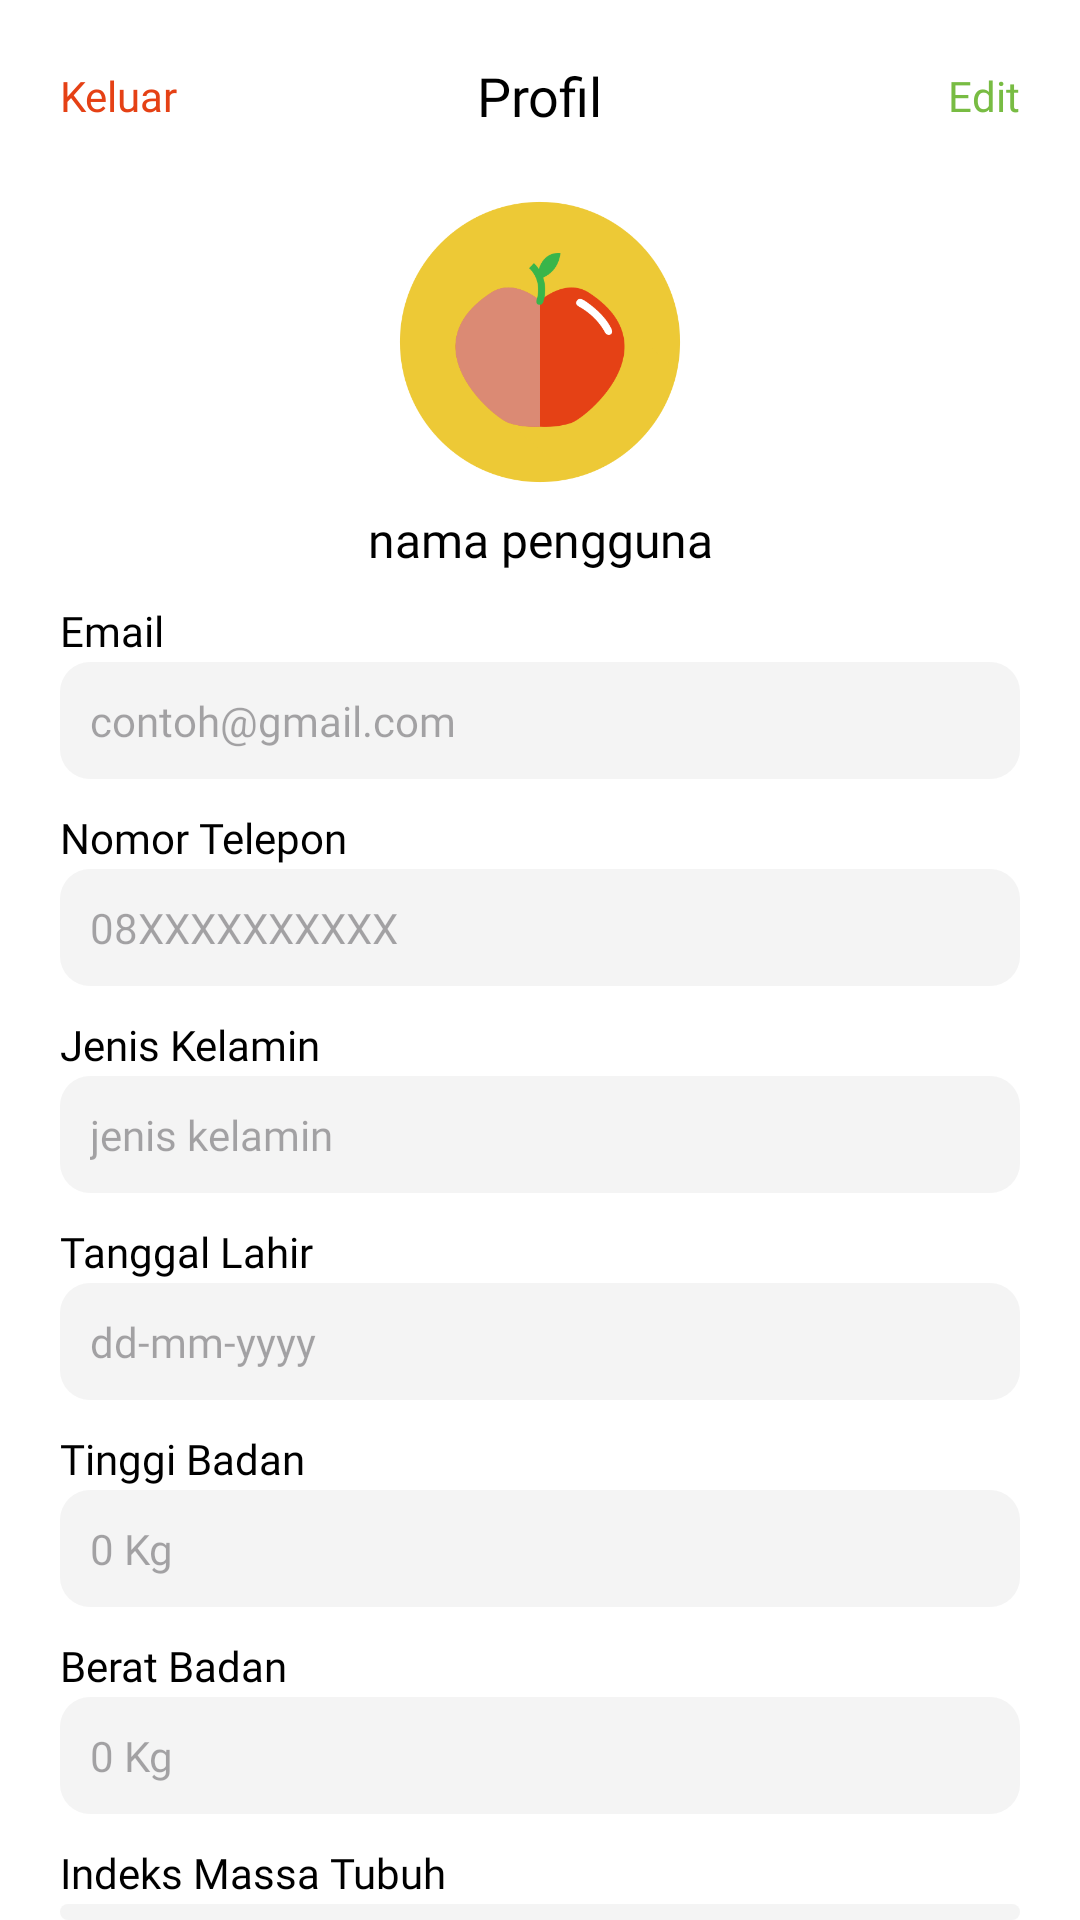

Locate icon controls on the screen. Image size 1080 x 1920, boxes as (x1, y1, x2, y2).
healthy food: (400, 202, 680, 482)
